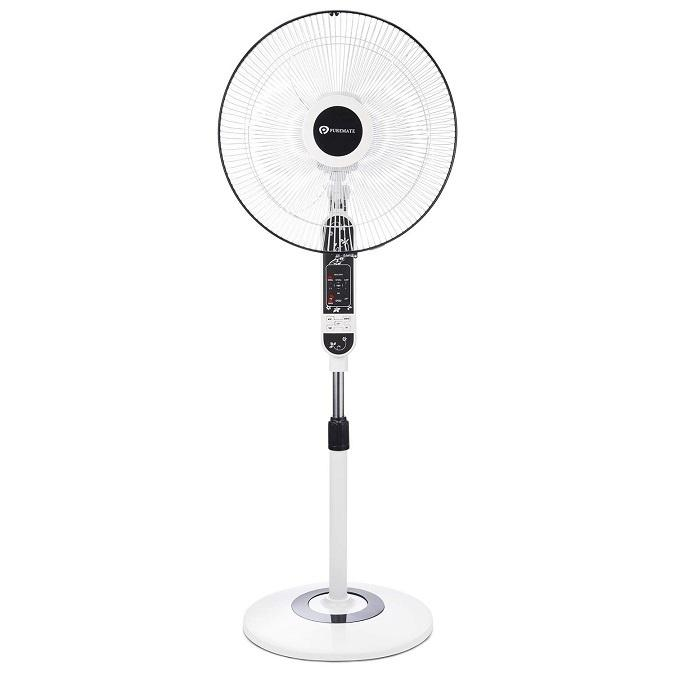fan: (187, 0, 484, 675)
